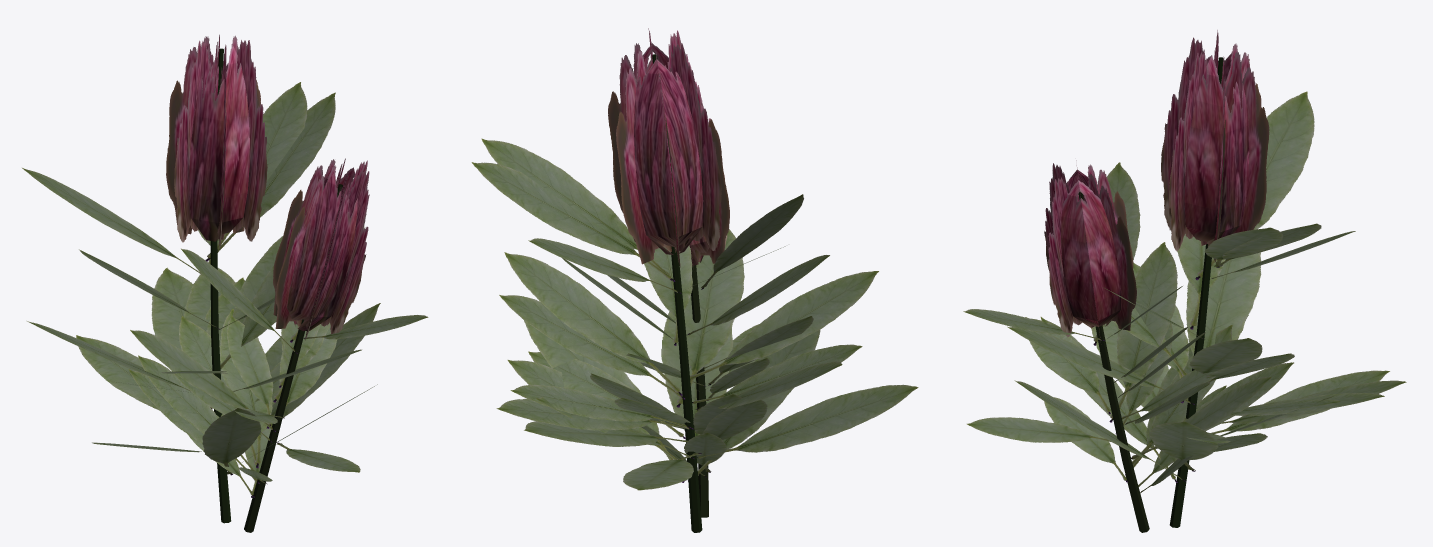
Rendered from category_mesh_flower_0.glb.
The picture shows the model from 3 angles, left to right: view 1: azimuth 30°, elevation 25°; view 2: azimuth 150°, elevation 25°; view 3: azimuth 270°, elevation 25°; orthographic projection. The views are drawn at different scales.
Visible parts, largest first — view 1: category_mesh_flower_0; view 2: category_mesh_flower_0; view 3: category_mesh_flower_0.
Part boxes in pixels (x1=…): category_mesh_flower_0: x1=22, y1=34, x2=428, y2=532; category_mesh_flower_0: x1=471, y1=28, x2=918, y2=532; category_mesh_flower_0: x1=963, y1=30, x2=1406, y2=532.
Size of the model in its own units: 0.2814 by 0.3685 by 0.3137.
1 material, 1 textured.
